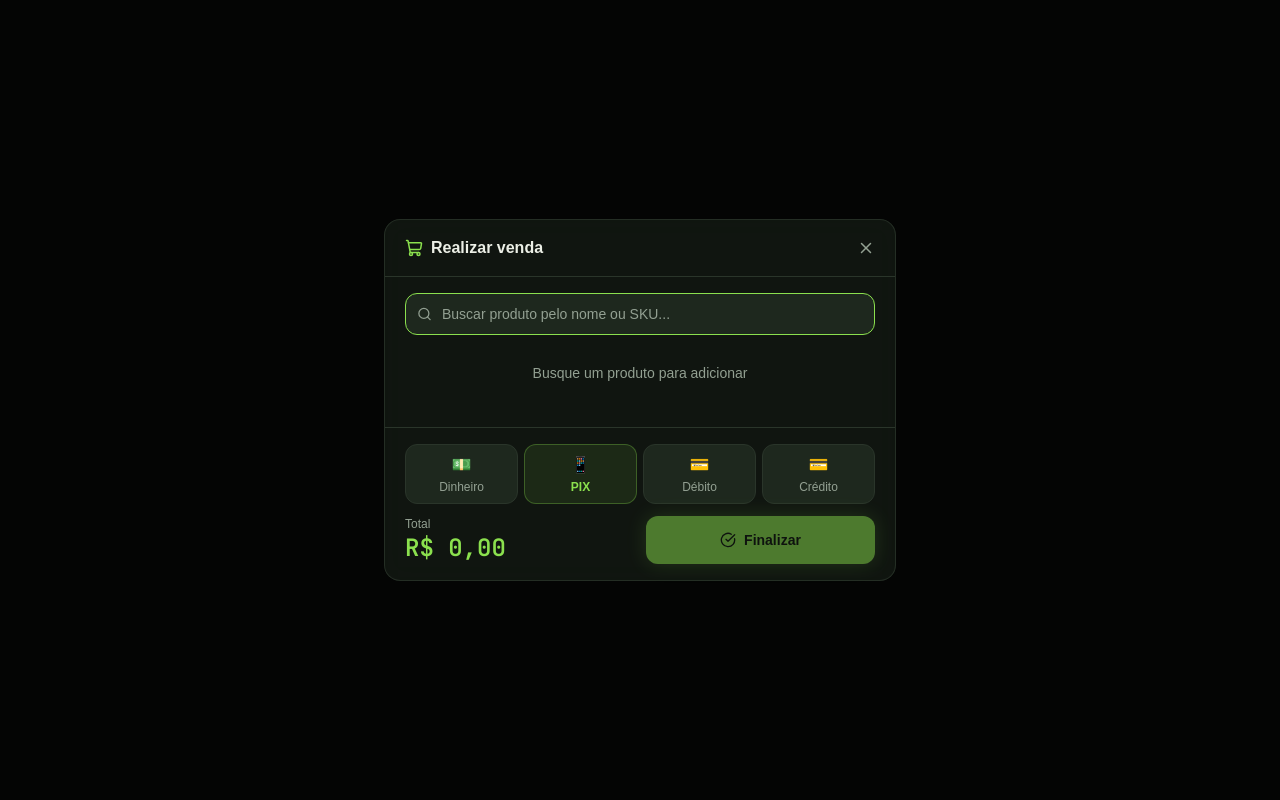
Test: QuickSaleModal — cart operations › removes a product when the minus button reduces qty to 0
Type "virginia" into the field with placeholder "Buscar produto pelo nome ou SKU..." at [640, 314], box [405,293,875,335]
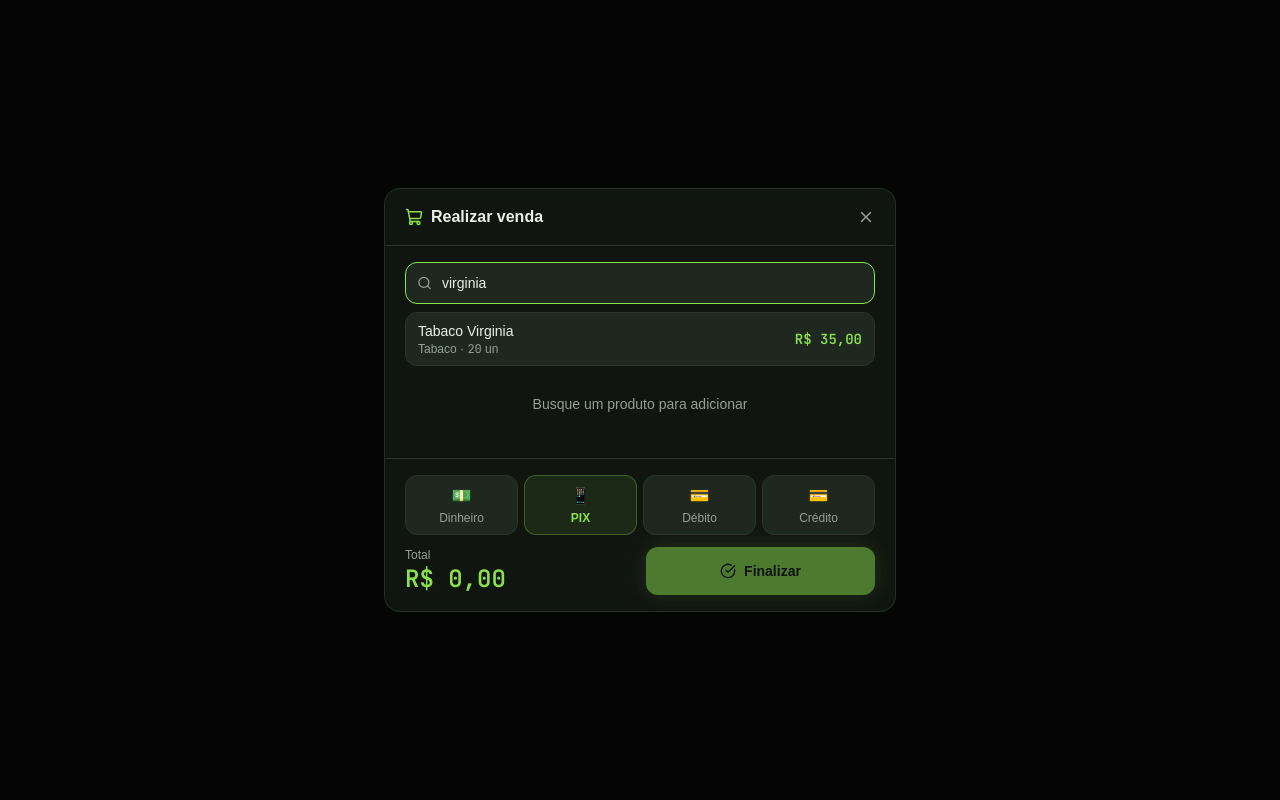
Click the text "Tabaco Virginia" at [466, 331], box [418,321,514,341]
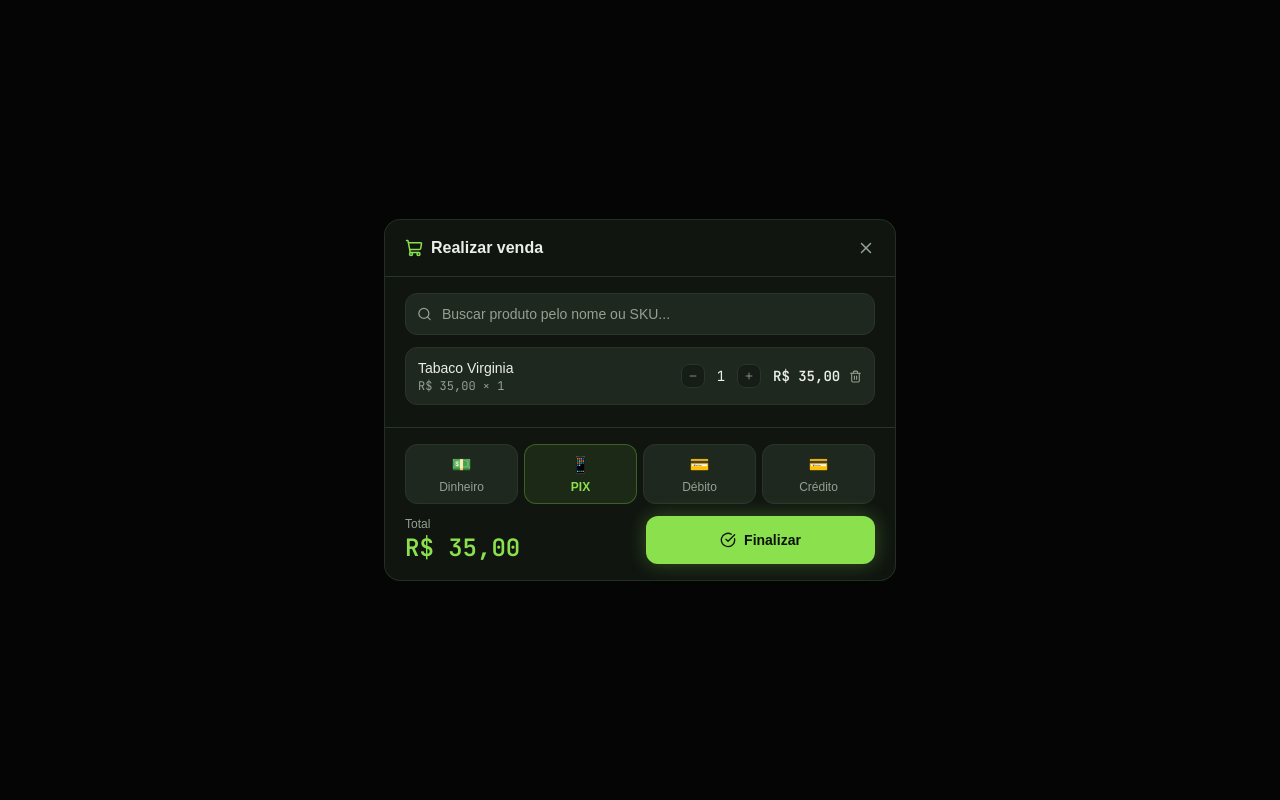
Click the 2nd button at [693, 376], box [681,364,705,388]
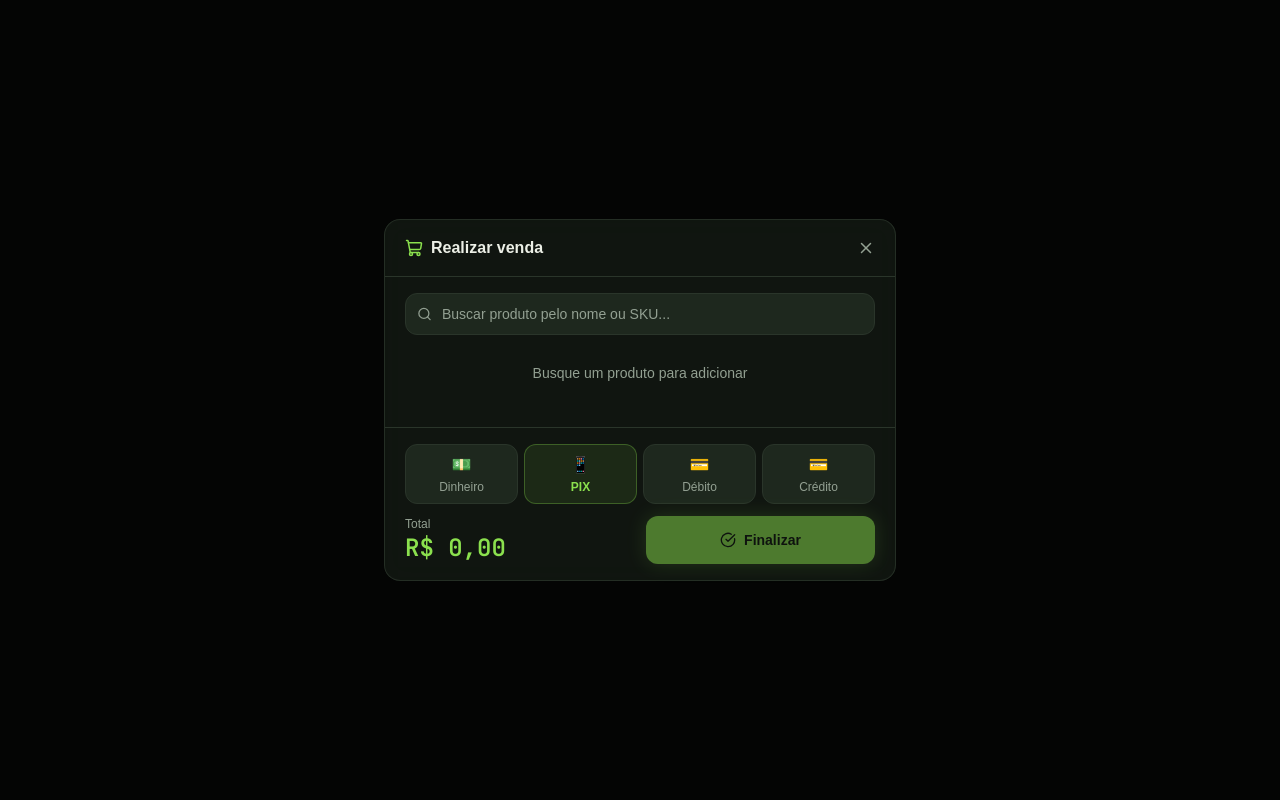
Check: the text "Busque um produto para adicionar" is shown, box [533,365,747,381]
